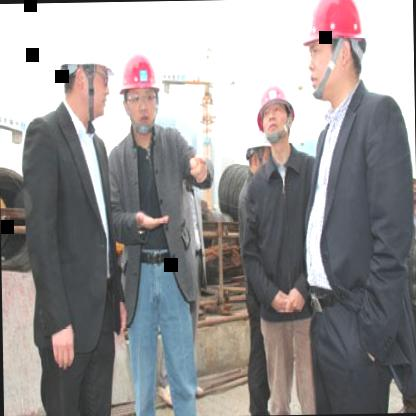helmet: (302, 0, 370, 103), (54, 28, 116, 122), (118, 51, 161, 132), (256, 81, 296, 142), (244, 130, 272, 176)
